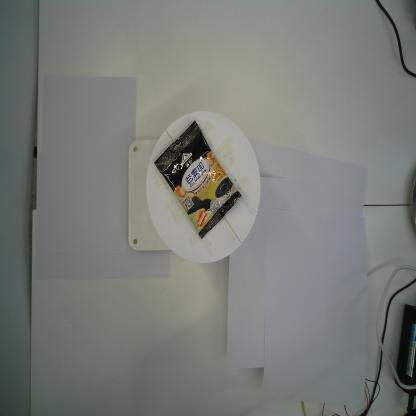Instant Drink: (154, 120, 242, 240)
